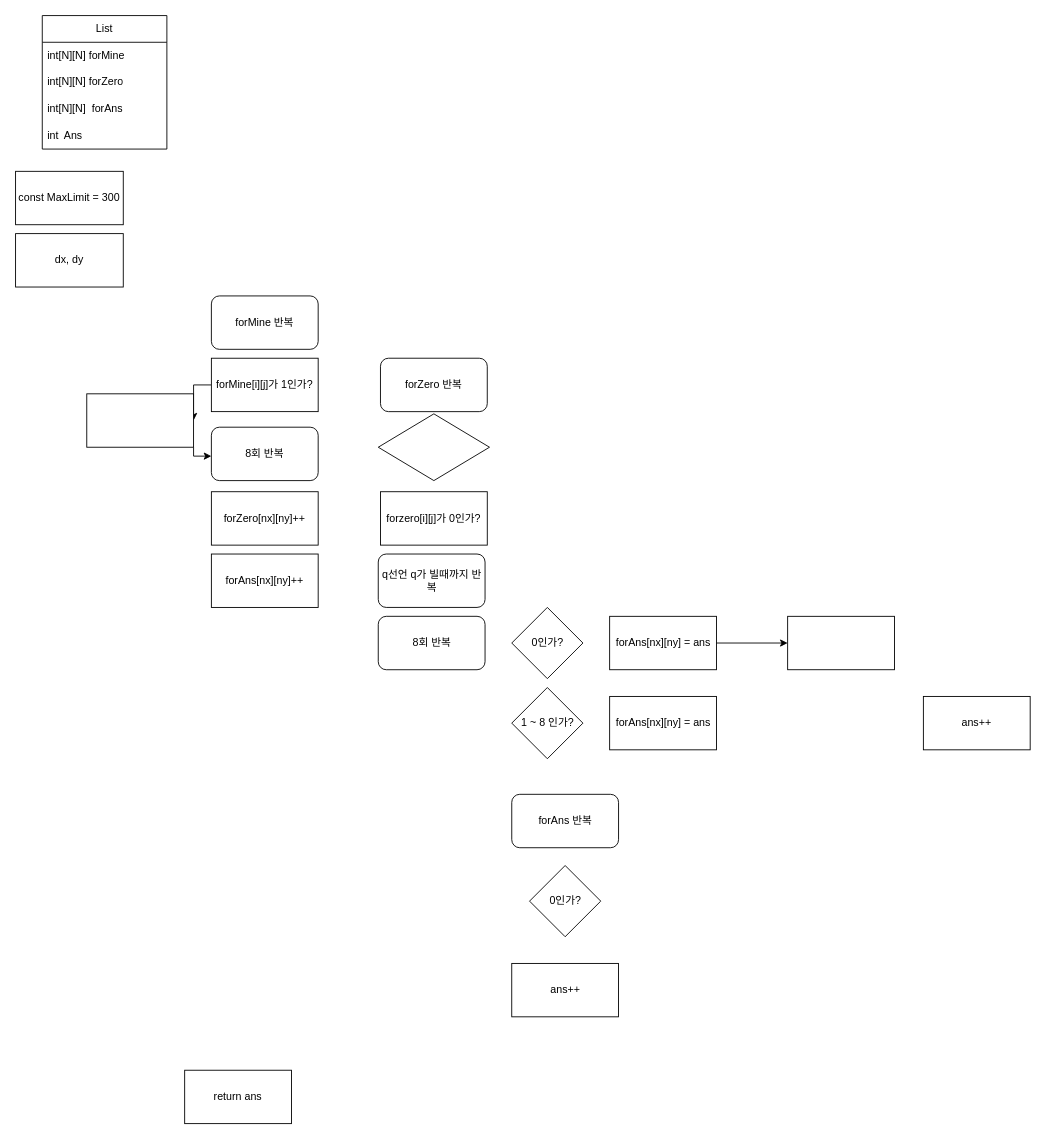
Image size: 1046x1139. Some labels were removed from this diagram. The shapes that lost their labels are listed below. From the top down, each one's centre as x and y in pixels, then its label:
At (x=140, y=420): "forZero[i][j] = 1".
At (x=433, y=447): "forAns[i][j] =0 인가?".
At (x=840, y=642): "q에 추가".
